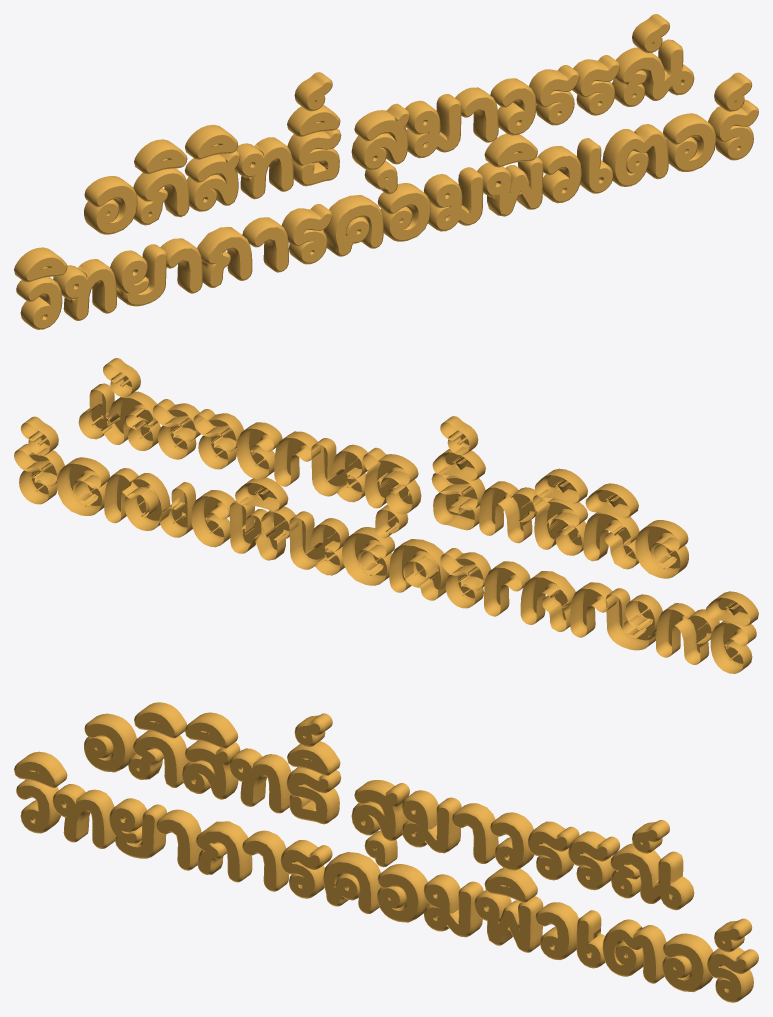
Rendered from TextPadtai.glb.
3 views of the same model, one above another, from view 1: azimuth 30°, elevation 25°; view 2: azimuth 150°, elevation 25°; view 3: azimuth 330°, elevation 25° (orthographic).
Visible parts, largest first — view 1: Text; view 2: Text; view 3: Text.
Boxes of the visible parts, <box> form: Text: <box>14,14,758,329</box>; Text: <box>14,358,758,673</box>; Text: <box>14,702,758,1002</box>.
Size of the model in its own units: 1.87 by 0.4427 by 0.0445.
